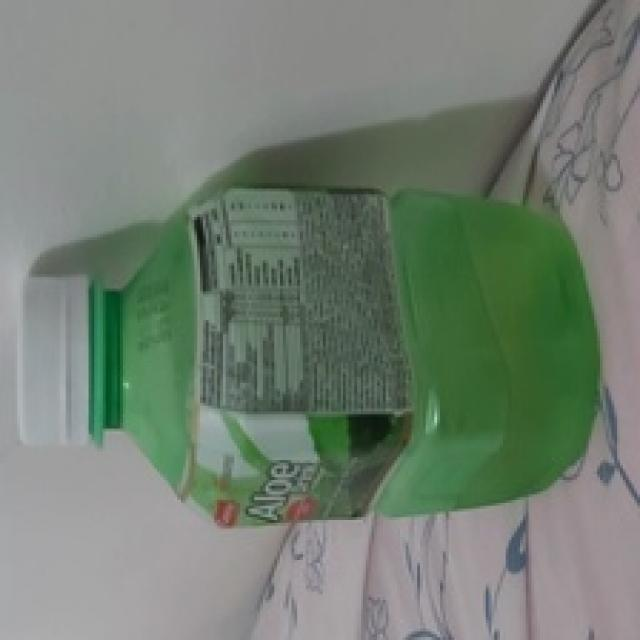Plastic: (13, 182, 596, 528)
